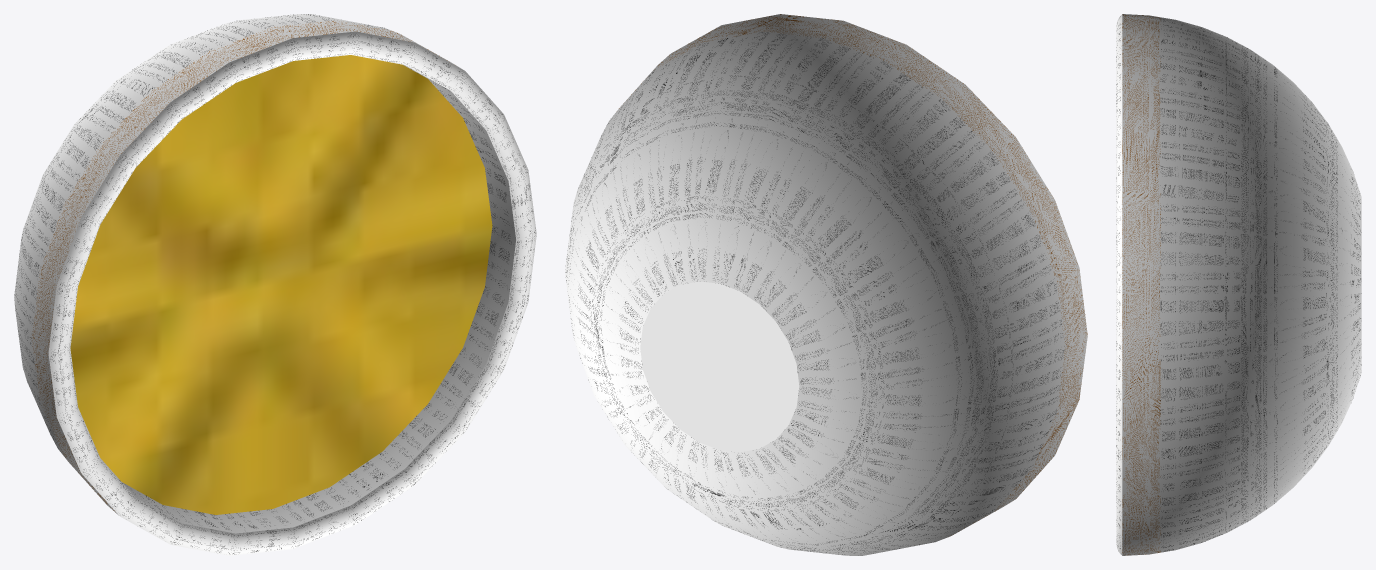
The model's file is model_align.obj.
The picture shows the model from 3 angles, left to right: view 1: azimuth 30°, elevation 25°; view 2: azimuth 150°, elevation 25°; view 3: azimuth 270°, elevation 25°; orthographic projection. The views are drawn at different scales.
Visible parts, largest first — view 1: mesh1_mesh1-geometry; view 2: mesh1_mesh1-geometry; view 3: mesh1_mesh1-geometry.
Boxes of the visible parts, box(x1,y1,x2,y2) form: mesh1_mesh1-geometry: box(14, 14, 536, 555); mesh1_mesh1-geometry: box(565, 14, 1087, 555); mesh1_mesh1-geometry: box(1116, 14, 1361, 555).
Size of the model in its own units: 0.1597 by 0.1597 by 0.072.
